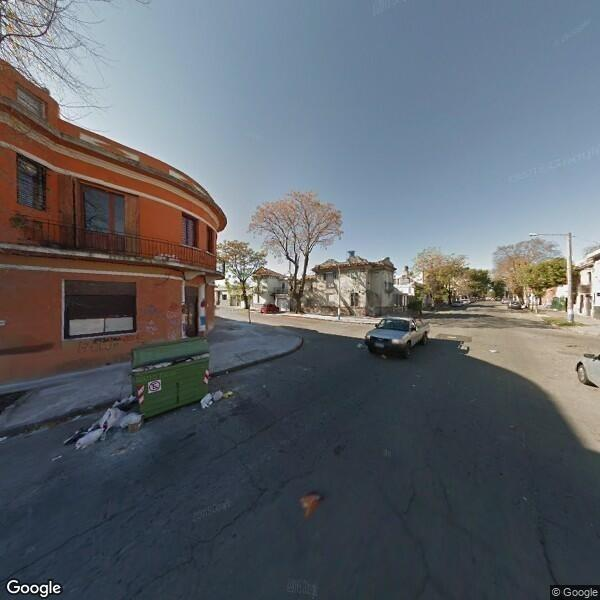Dechets: (61, 392, 146, 447), (202, 390, 234, 409)
Trash: (130, 335, 212, 418)
